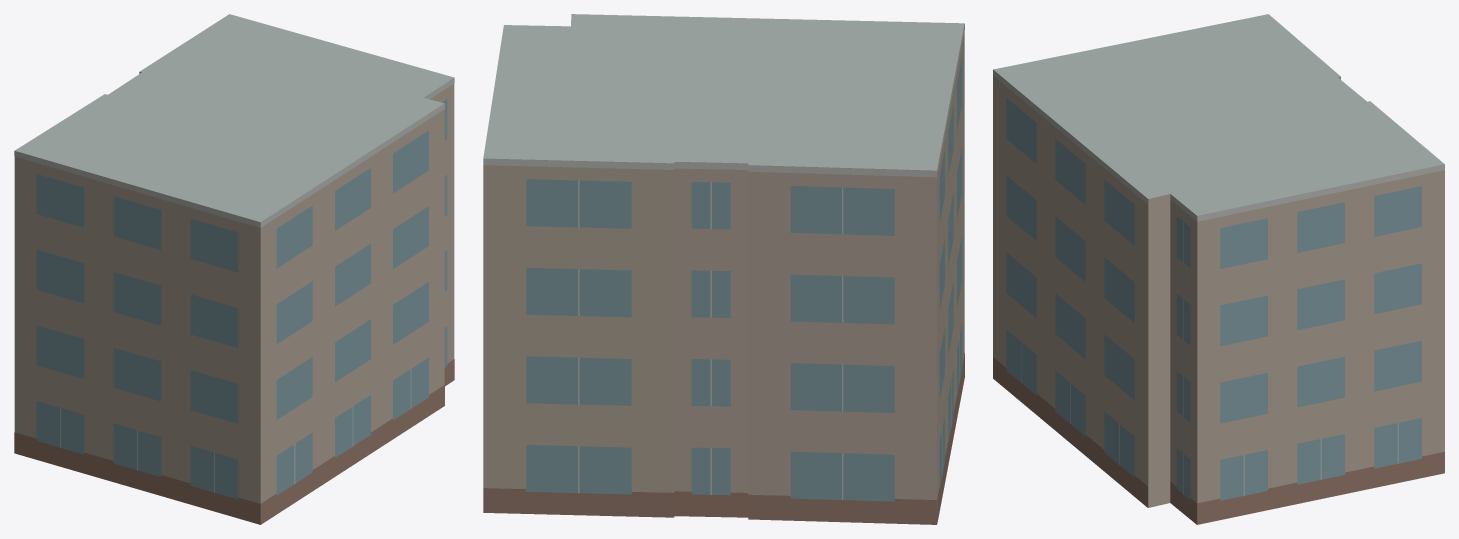
The model's file is survey-upis-32905779.glb.
3 renders of one model, left to right at view 1: azimuth 30°, elevation 25°; view 2: azimuth 150°, elevation 25°; view 3: azimuth 270°, elevation 25°, orthographic. The views are drawn at different scales.
Parts seen in each view (by area): view 1: survey-upis-32905779.tmp; view 2: survey-upis-32905779.tmp; view 3: survey-upis-32905779.tmp.
Part boxes in pixels (x1=…): survey-upis-32905779.tmp: x1=14, y1=14, x2=454, y2=524; survey-upis-32905779.tmp: x1=483, y1=14, x2=964, y2=524; survey-upis-32905779.tmp: x1=993, y1=14, x2=1444, y2=524.
Size of the model in its own units: 18.08 by 12.9 by 17.1.
